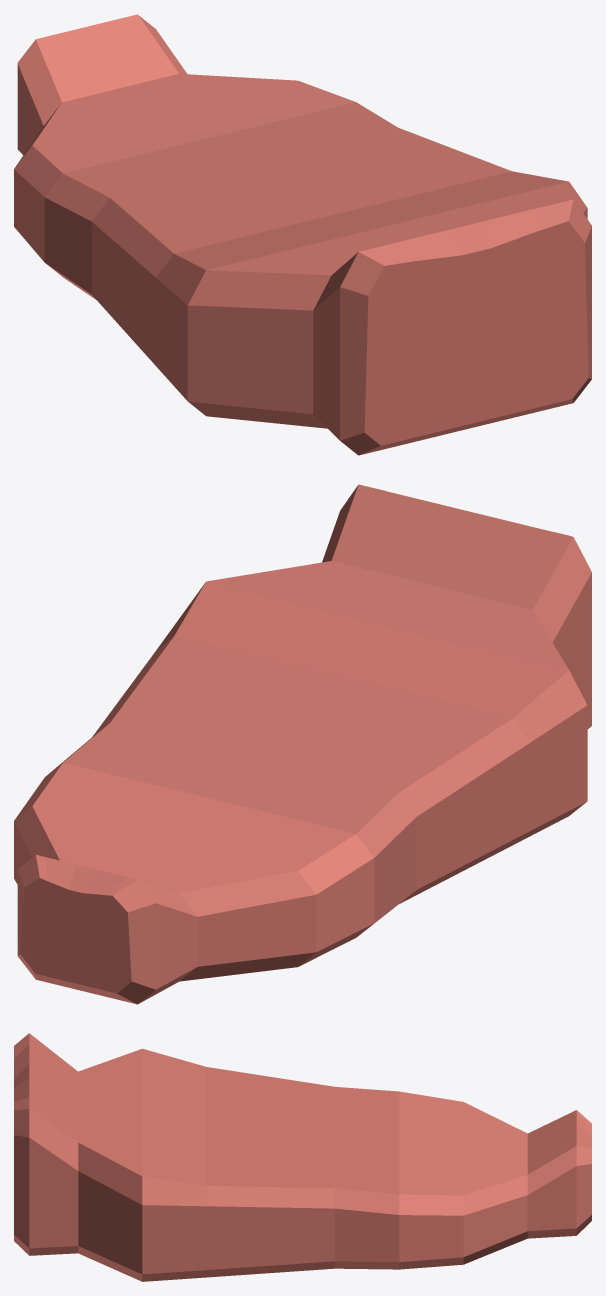
Rendered from calder_medium_a.glb.
3 views of the same model, one above another, from view 1: azimuth 30°, elevation 25°; view 2: azimuth 150°, elevation 25°; view 3: azimuth 270°, elevation 25° (orthographic). The views are drawn at different scales.
Parts seen in each view (by area): view 1: calder_medium_a; view 2: calder_medium_a; view 3: calder_medium_a.
Part boxes in pixels (x1,y1,x2,y2): calder_medium_a: [14, 14, 591, 455]; calder_medium_a: [14, 484, 591, 1004]; calder_medium_a: [14, 1033, 591, 1281].
Size of the model in its own units: 3.4 by 1.66 by 5.9.
